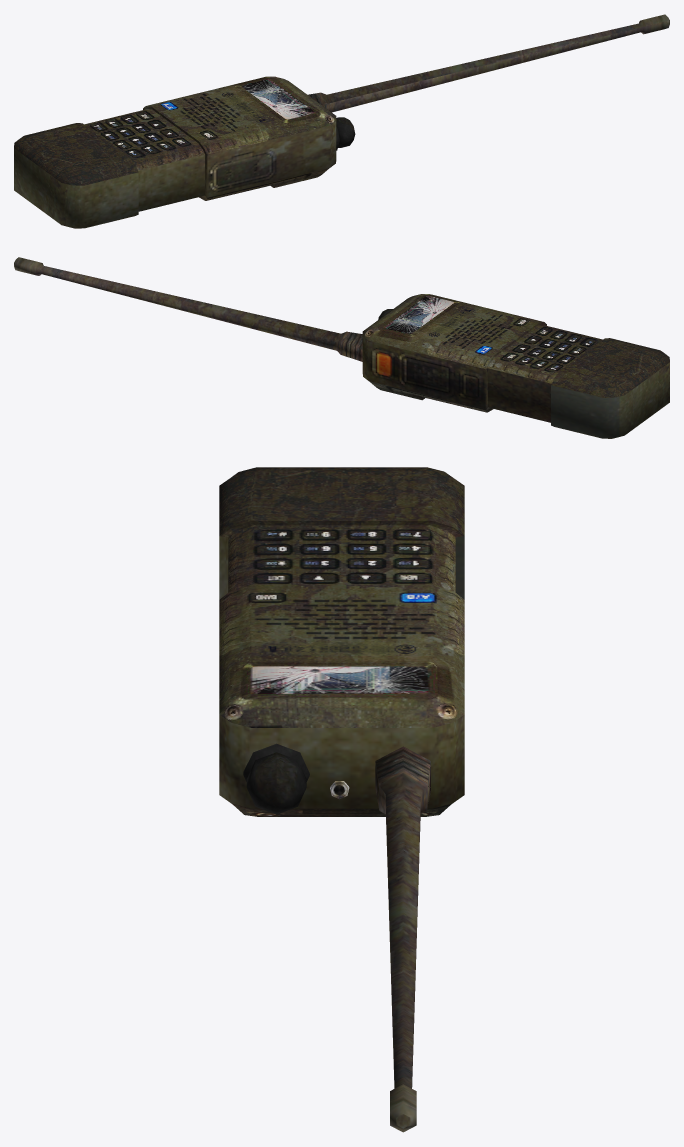
Rendered from WalkieTalkieRadio.FBX.
3 views of the same model, one above another, from view 1: azimuth 30°, elevation 25°; view 2: azimuth 150°, elevation 25°; view 3: azimuth 270°, elevation 25° (orthographic). The views are drawn at different scales.
Visible parts, largest first — view 1: WalkieTalkieRadio; view 2: WalkieTalkieRadio; view 3: WalkieTalkieRadio.
Part boxes in pixels (bbox=[...]): WalkieTalkieRadio: bbox=[14, 14, 669, 228]; WalkieTalkieRadio: bbox=[14, 257, 669, 438]; WalkieTalkieRadio: bbox=[219, 467, 464, 1132].
Size of the model in its own units: 0.7009 by 0.0641 by 0.121.
